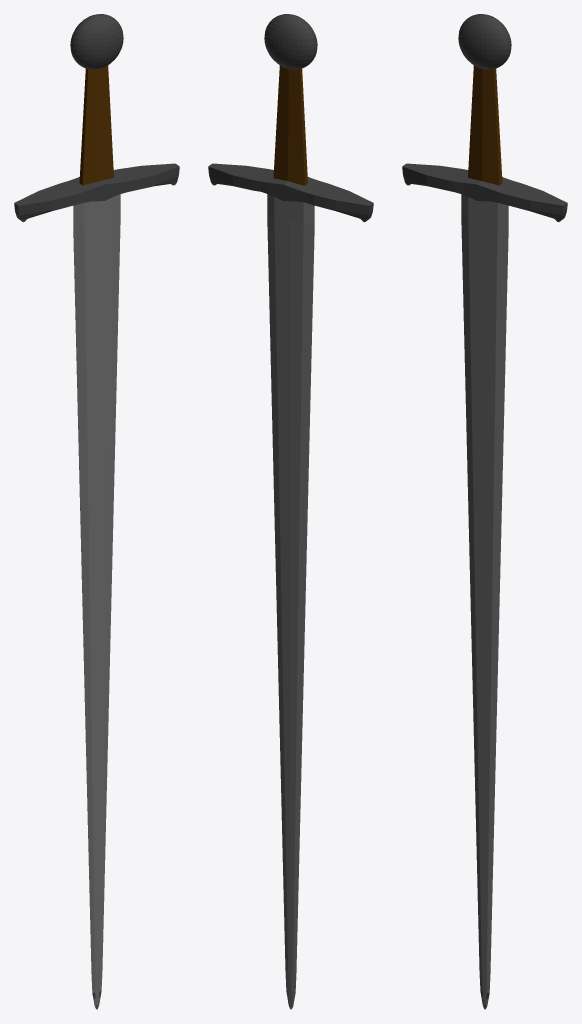
File: Schwert.fbx
The picture shows the model from 3 angles, left to right: view 1: azimuth 30°, elevation 25°; view 2: azimuth 150°, elevation 25°; view 3: azimuth 330°, elevation 25°; orthographic projection.
Visible parts, largest first — view 1: Schwert; view 2: Schwert; view 3: Schwert.
Boxes of the visible parts, bbox=[...] form: Schwert: bbox=[14, 14, 179, 1009]; Schwert: bbox=[208, 14, 373, 1009]; Schwert: bbox=[402, 14, 567, 1009].
Bounding box in the file's own units: 80.97 × 477 × 14.64.
